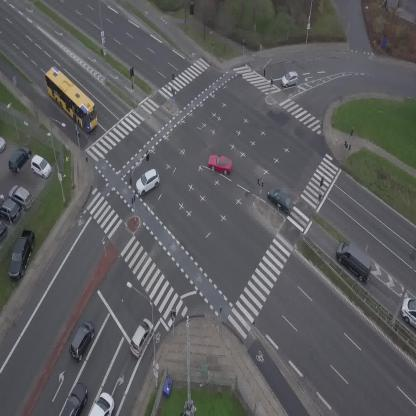bus: (36, 64, 107, 134)
car: (64, 318, 100, 362), (124, 316, 158, 359), (60, 381, 93, 416), (130, 166, 165, 198), (264, 184, 298, 215), (205, 150, 235, 177), (280, 70, 300, 88)
lorry: (330, 236, 381, 285), (89, 390, 119, 416), (401, 298, 416, 329)
